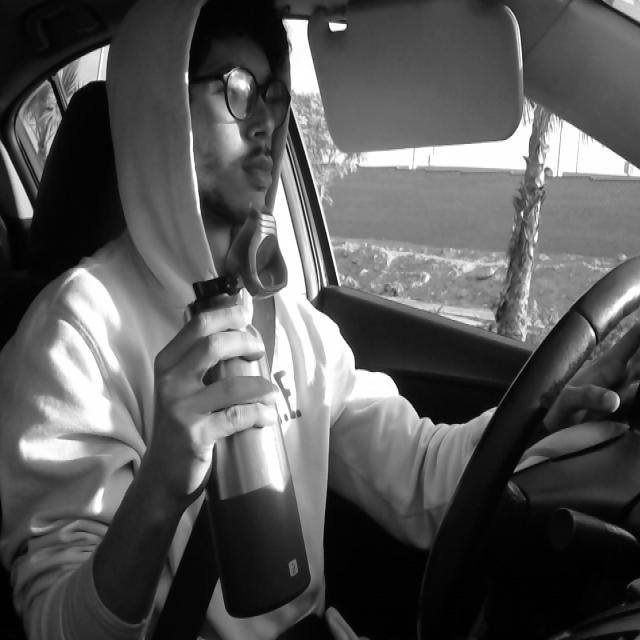drinking: (176, 206, 310, 614)
